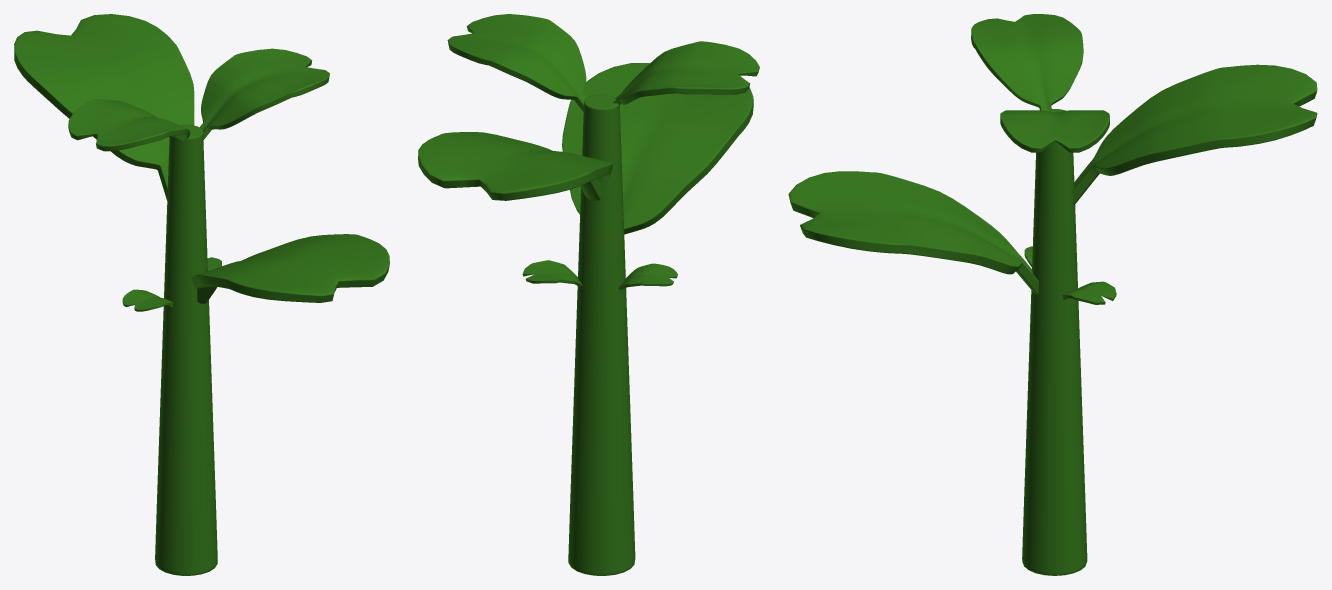
The model's file is sprout.glb.
The picture shows the model from 3 angles, left to right: view 1: azimuth 30°, elevation 25°; view 2: azimuth 150°, elevation 25°; view 3: azimuth 270°, elevation 25°; orthographic projection. The views are drawn at different scales.
Visible parts, largest first — view 1: sprout; view 2: sprout; view 3: sprout.
Part boxes in pixels (<box>): sprout: <box>14,14,389,575</box>; sprout: <box>418,14,759,575</box>; sprout: <box>788,14,1317,575</box>.
Size of the model in its own units: 0.5003 by 0.8746 by 0.855.
